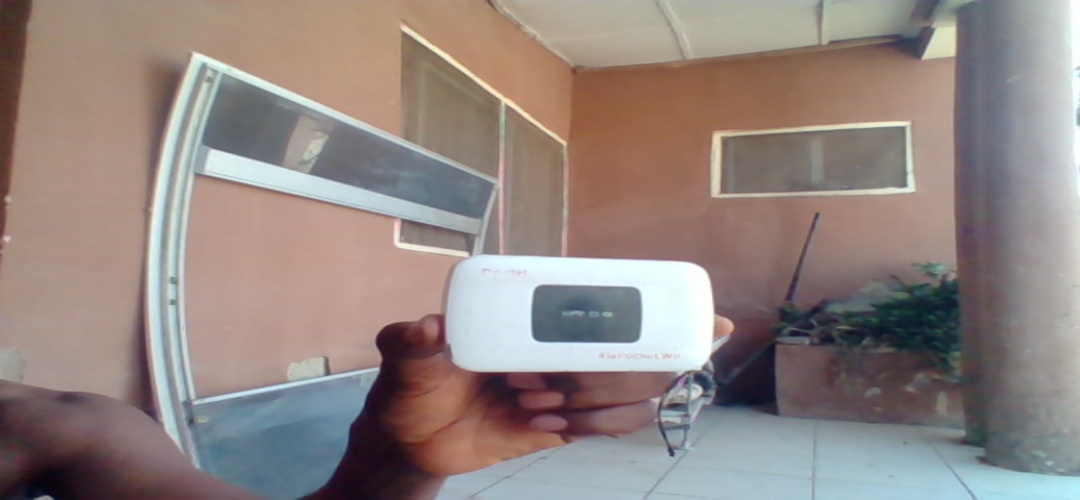mifi: (441, 254, 712, 373)
